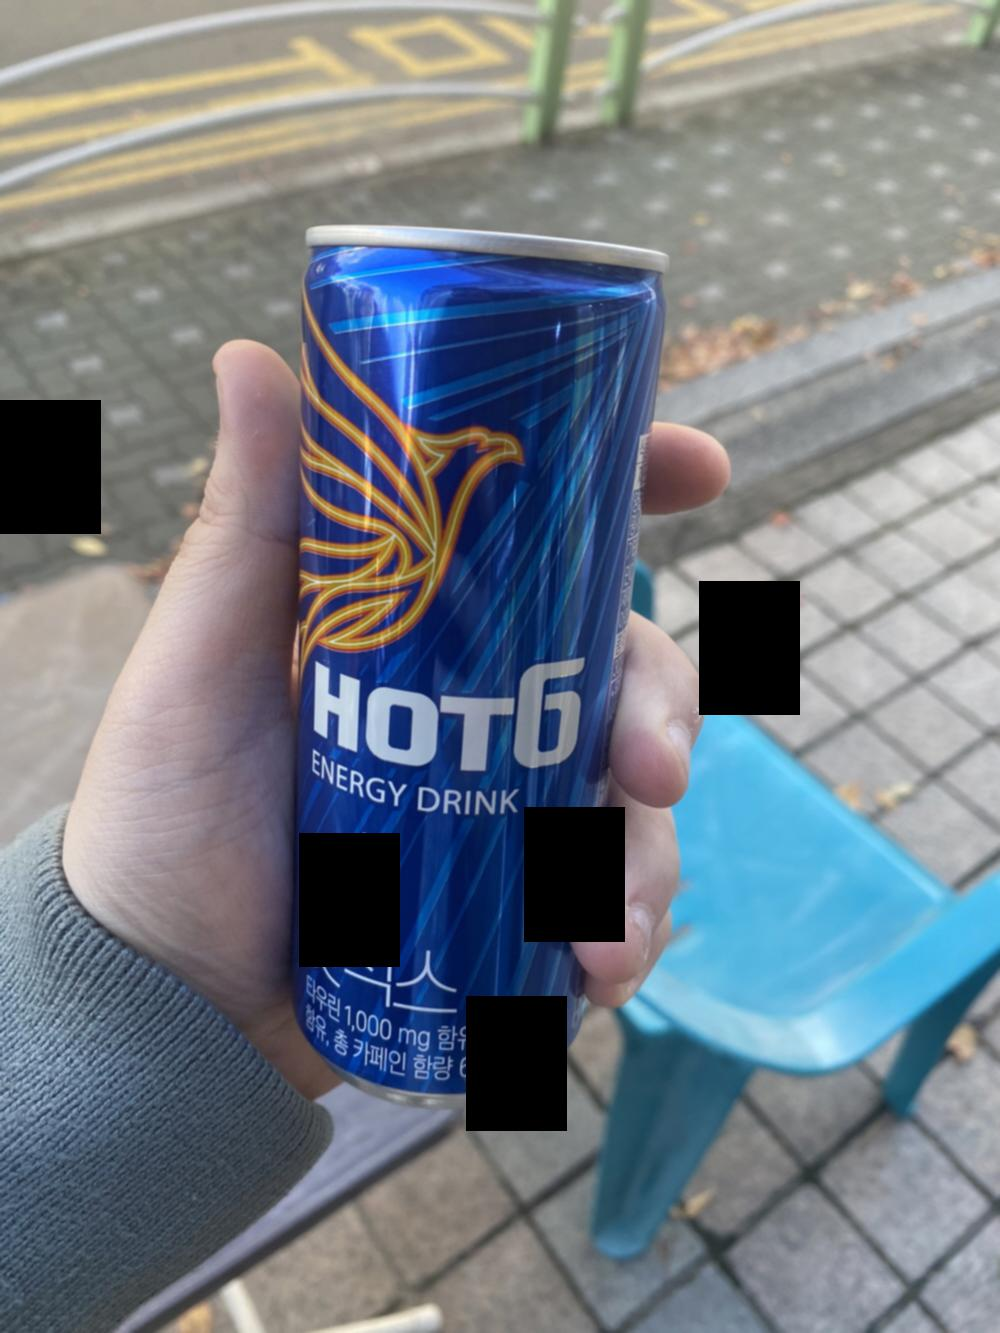hotsix_org: (288, 214, 638, 1102)
